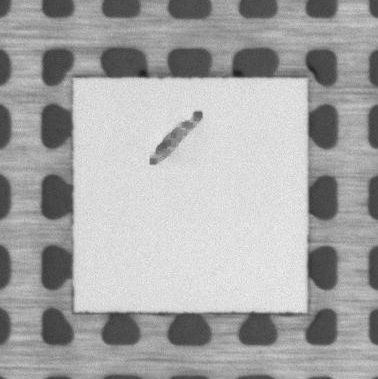DIE_INK: (146, 108, 203, 167)
